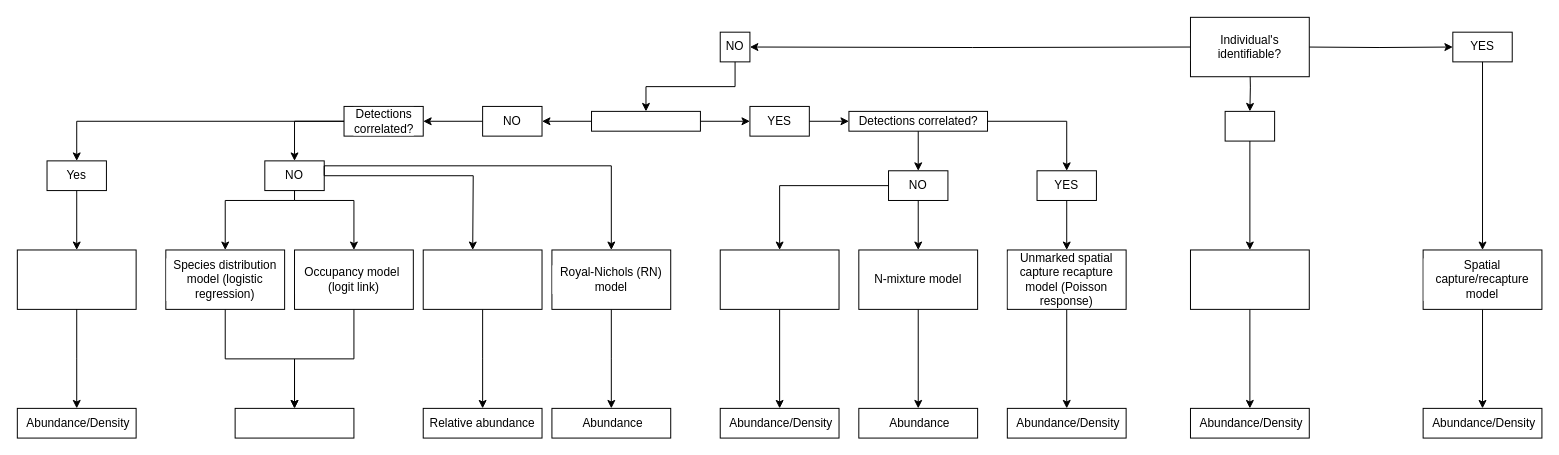
This 1559x455 diagram has some shape labels left out. The shapes that lost their labels are listed below. From the top down, each one's box as (x1, y1, x2, y2) in pixels, then its label:
(591, 110, 700, 131): Counts available?
(1224, 110, 1275, 141): Only a subset
(16, 249, 136, 309): Unmarked spatial capture recapture (binomial response)
(422, 249, 542, 309): Occupancy model (cloglog link)
(719, 249, 839, 309): Distance sampling model
(1189, 249, 1309, 309): Spatial mark/resight model
(234, 407, 354, 438): Probability of presence
